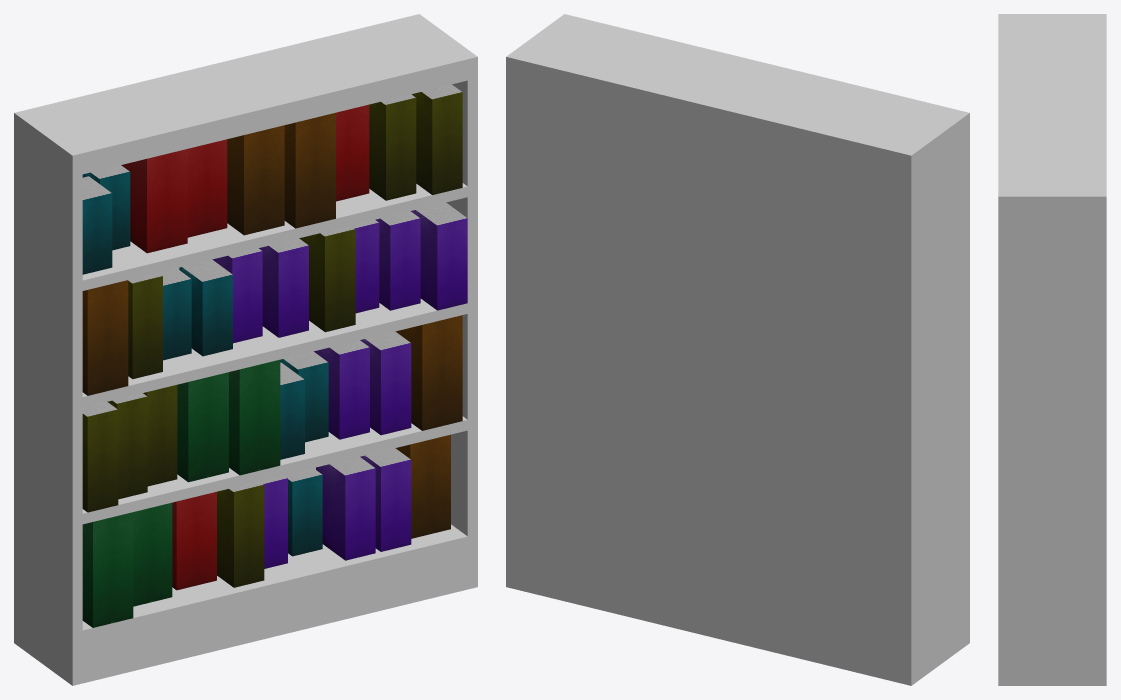
File: Bookcase_1-2.fbx
The picture shows the model from 3 angles, left to right: view 1: azimuth 30°, elevation 25°; view 2: azimuth 150°, elevation 25°; view 3: azimuth 270°, elevation 25°; orthographic projection. The views are drawn at different scales.
Visible parts, largest first — view 1: Bookcase_1-2, Bookcase_1-2_Books-2, Bookcase_1-2_Books-3, Bookcase_1-2_Books-4, Bookcase_1-2_Books-1; view 2: Bookcase_1-2; view 3: Bookcase_1-2.
Part boxes in pixels (x1,y1,x2,y2): Bookcase_1-2: [14, 14, 477, 685]; Bookcase_1-2_Books-2: [82, 315, 462, 512]; Bookcase_1-2_Books-3: [82, 202, 467, 395]; Bookcase_1-2_Books-4: [82, 84, 462, 274]; Bookcase_1-2_Books-1: [82, 434, 450, 627]; Bookcase_1-2: [506, 14, 969, 685]; Bookcase_1-2: [998, 14, 1106, 685].
Bounding box in the file's own units: 400 × 500 × 100.
2 materials, 1 textured.
